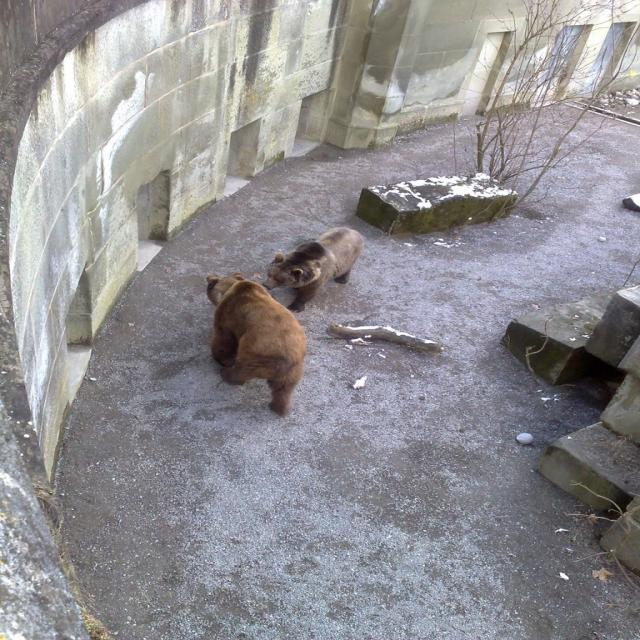Cheetahs: (204, 270, 308, 420)
